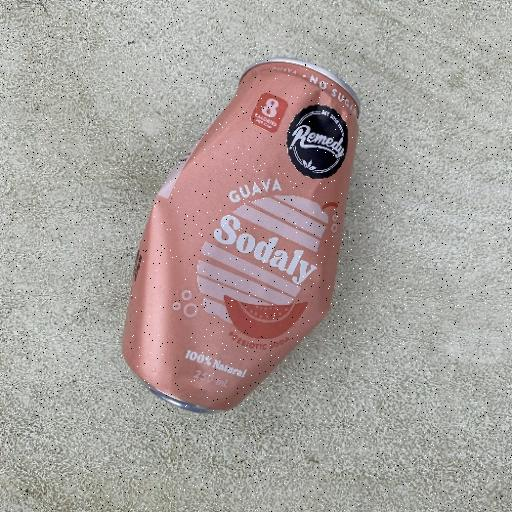Metal: (120, 56, 362, 414)
